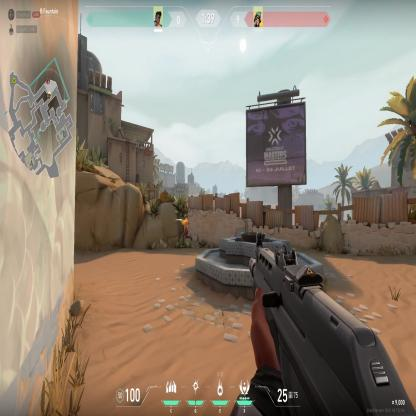enemy: (179, 213, 193, 247)
